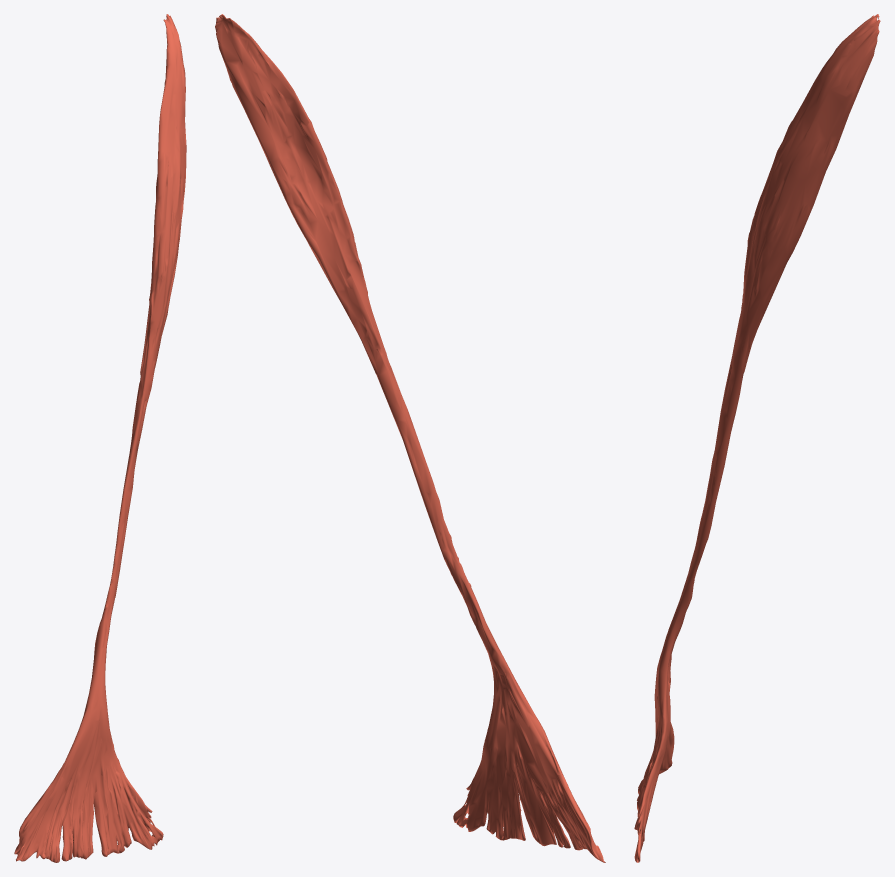
Rendered from palmaris-longus.glb.
The picture shows the model from 3 angles, left to right: view 1: azimuth 30°, elevation 25°; view 2: azimuth 150°, elevation 25°; view 3: azimuth 270°, elevation 25°; orthographic projection. The views are drawn at different scales.
Parts seen in each view (by area): view 1: Palmaris longus muscle.r; view 2: Palmaris longus muscle.r; view 3: Palmaris longus muscle.r.
Part boxes in pixels (<box>): Palmaris longus muscle.r: <box>14,14,186,862</box>; Palmaris longus muscle.r: <box>215,14,605,862</box>; Palmaris longus muscle.r: <box>634,14,880,862</box>.
Size of the model in its own units: 0.1152 by 0.3314 by 0.0807.
